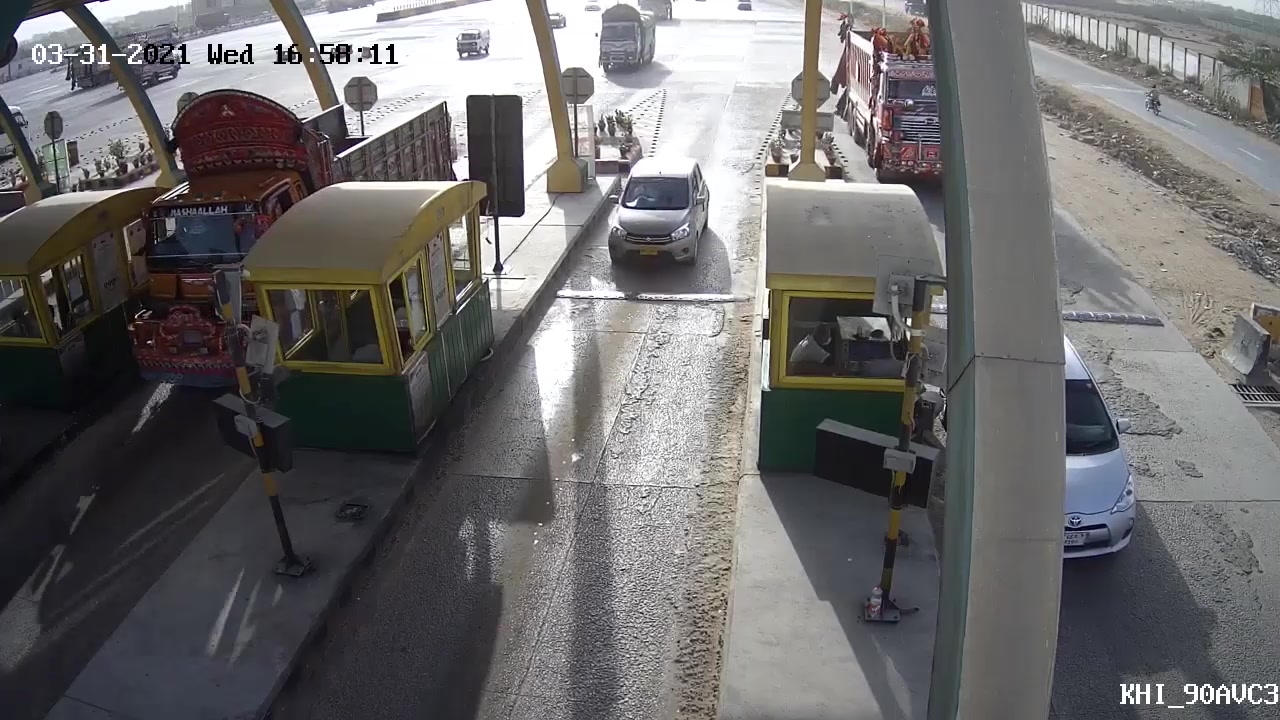F1: (587, 153, 715, 279)
